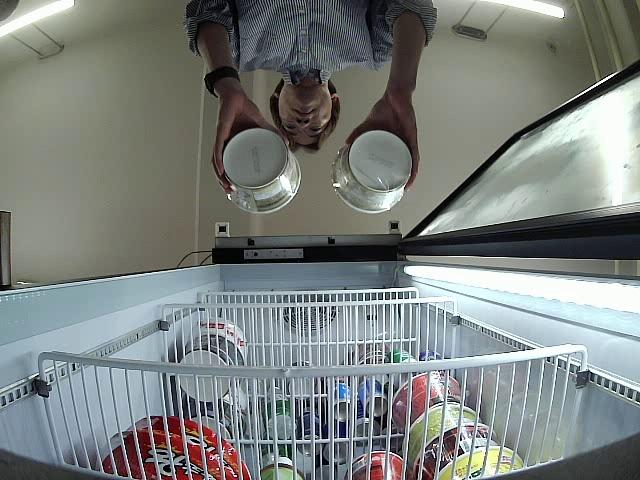00_hand: (210, 92, 290, 197), (347, 102, 421, 190)
03_chapagetti_L: (218, 129, 298, 214), (332, 129, 410, 212)
